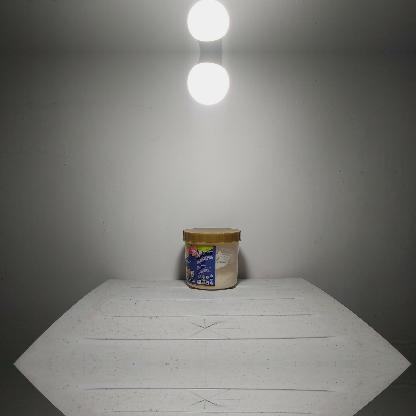Lady-s-Choice: (182, 227, 240, 289)
